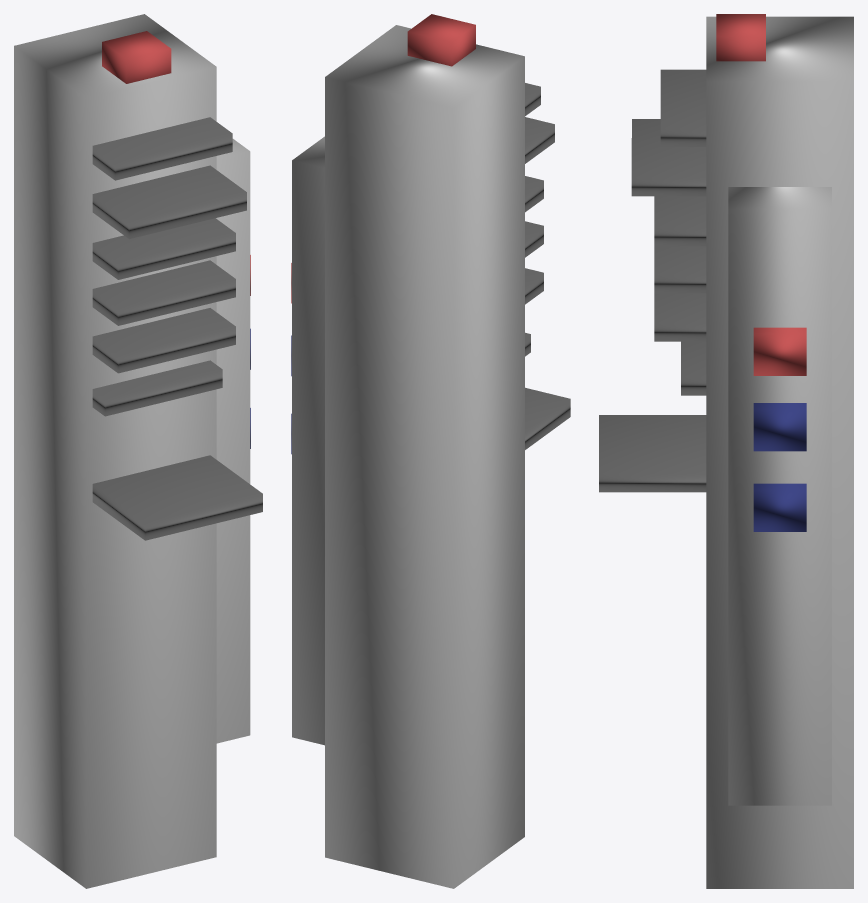
File: server 2.fbx
The picture shows the model from 3 angles, left to right: view 1: azimuth 30°, elevation 25°; view 2: azimuth 150°, elevation 25°; view 3: azimuth 270°, elevation 25°; orthographic projection. The views are drawn at different scales.
Parts seen in each view (by area): view 1: PM3D_Plane3D169_028; view 2: PM3D_Plane3D169_028; view 3: PM3D_Plane3D169_028.
Part boxes in pixels (box(x1,y1,x2,y2)): PM3D_Plane3D169_028: box(14, 14, 262, 888); PM3D_Plane3D169_028: box(291, 14, 570, 888); PM3D_Plane3D169_028: box(599, 14, 853, 888).
Bounding box in the file's own units: 66.14 × 274 × 76.07.
